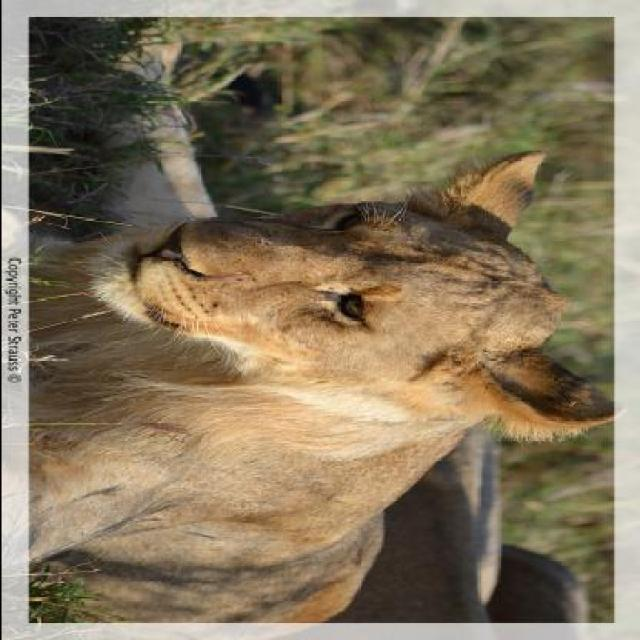Lion: (52, 122, 592, 623)
